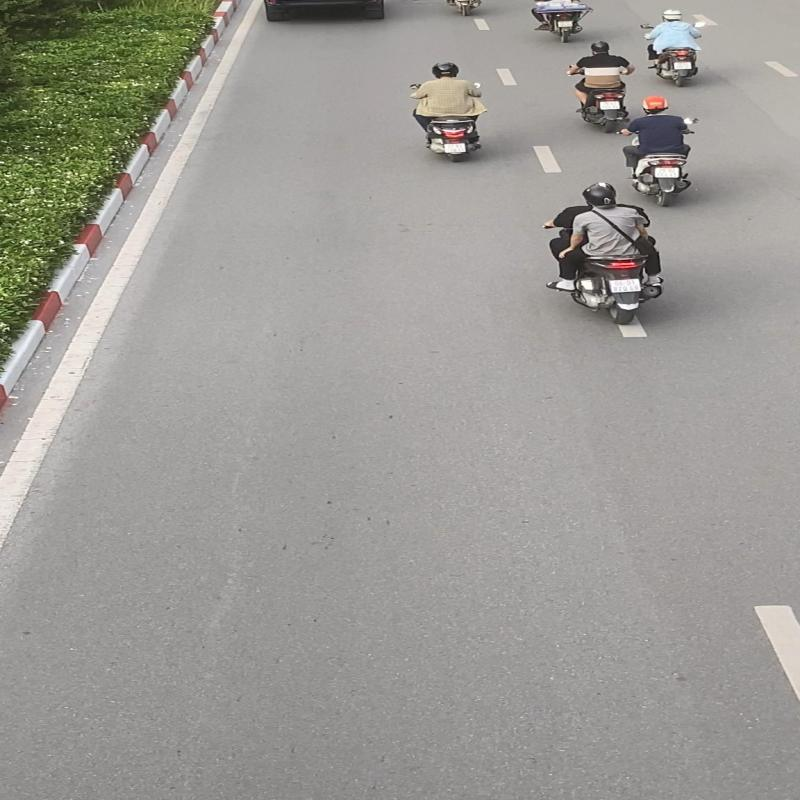helmet: (580, 184, 618, 208)
licenseplate: (606, 277, 645, 294)
motorcyclist: (537, 180, 670, 326)
